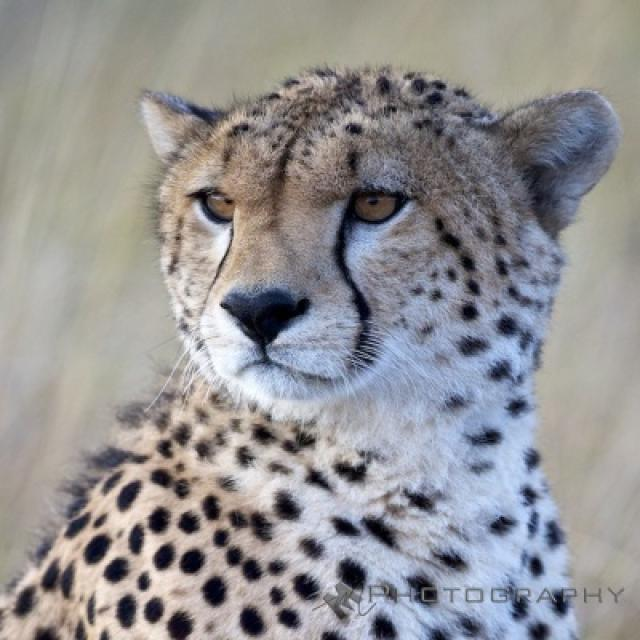Cheetah: (0, 76, 617, 636)
